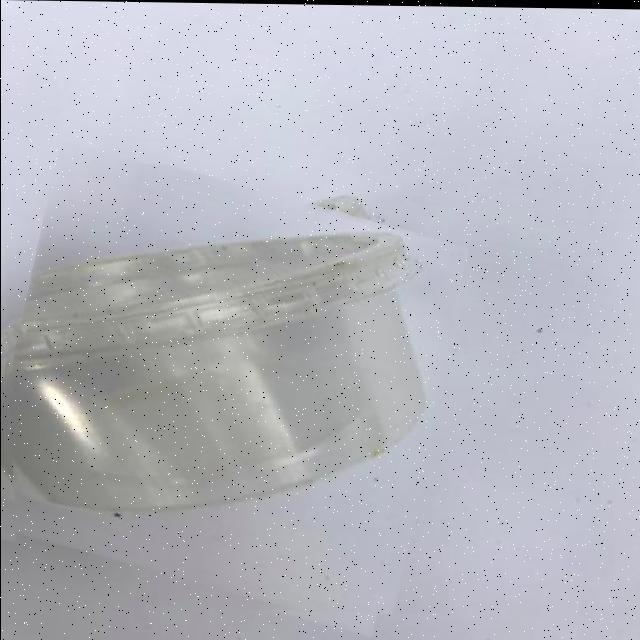litter: (0, 162, 448, 614)
